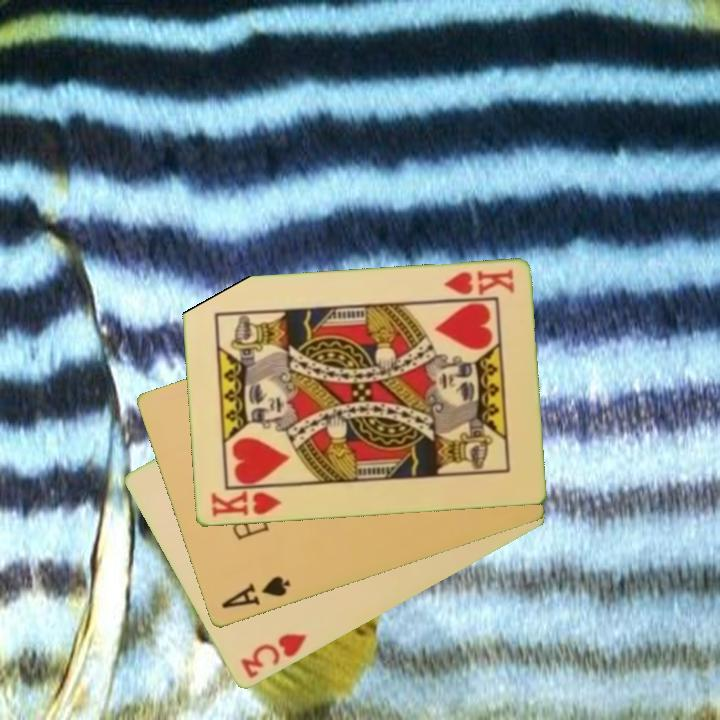3h: (236, 630, 310, 682)
As: (217, 573, 293, 612)
Kh: (207, 484, 288, 520), (439, 266, 517, 299)
